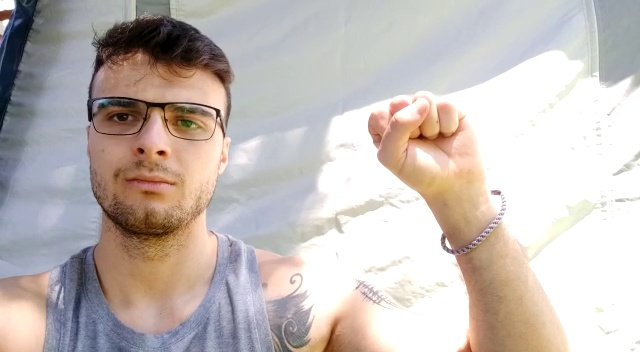Fist: (361, 89, 498, 254)
